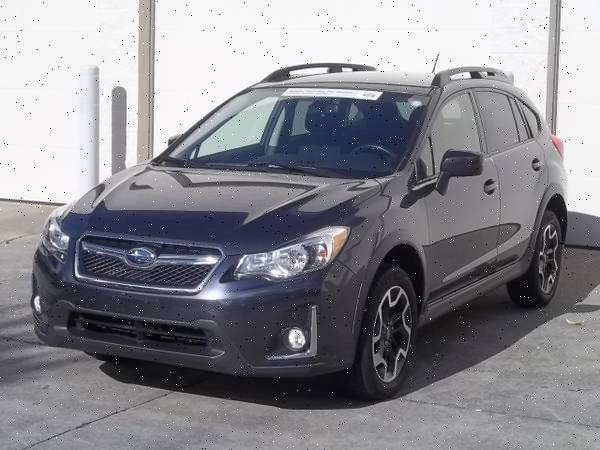Front_Bumper: (28, 232, 368, 373)
Front_Fender: (328, 162, 430, 320)
Front_Left_Door: (419, 158, 495, 313)
Front_Left_Window: (410, 87, 490, 186)
Front_Windshield: (155, 82, 431, 178)
Grille: (76, 233, 222, 292)
Hood: (60, 160, 386, 249)
Left_Headlight: (221, 223, 352, 279)
Rear_Fender: (520, 99, 566, 204)
Rear_Left_Door: (488, 139, 546, 281)
Rear_Left_Window: (472, 87, 532, 153)
Right_Headlight: (45, 209, 72, 257)
Roof: (245, 64, 553, 170)
Wheel: (358, 266, 421, 395), (527, 214, 565, 304)
